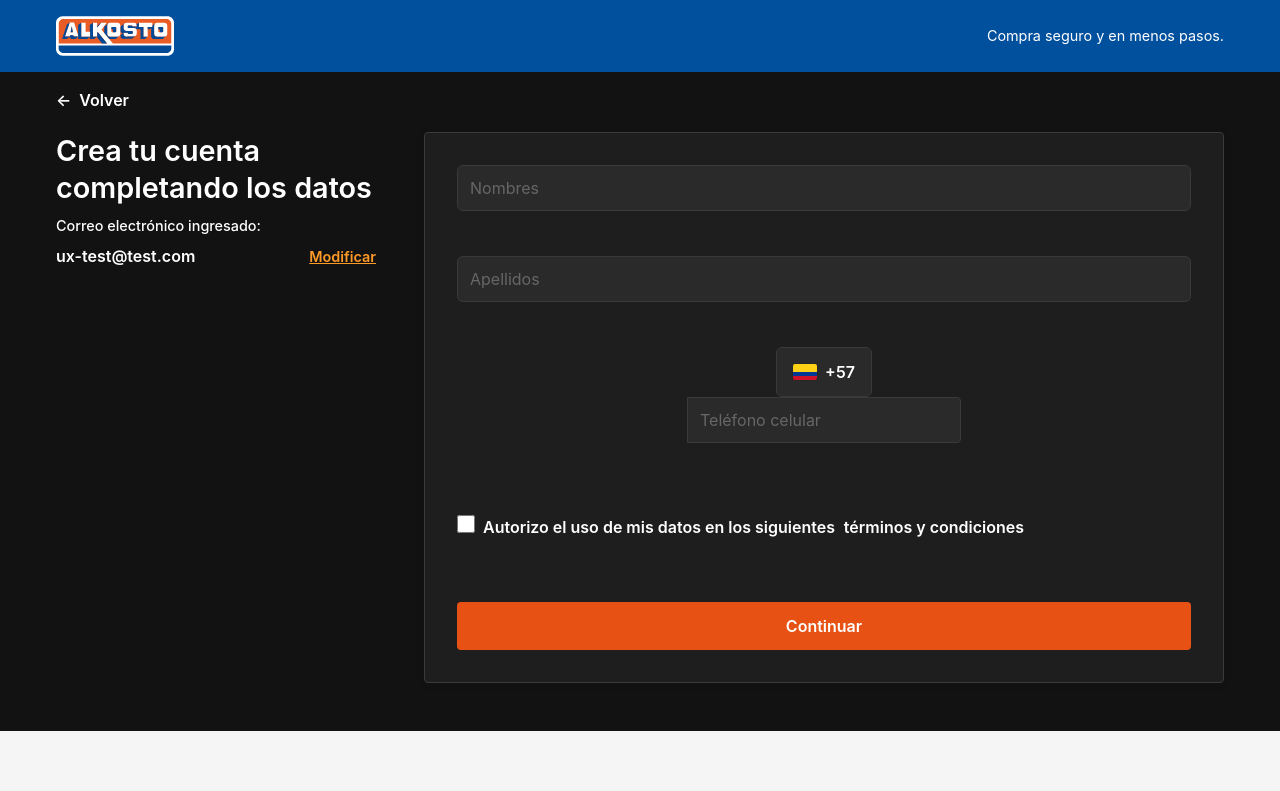
Test case: RF01 - REGISTRAR USUARIO - Pruebas E2E Completas › 6. Experiencia de Usuario e Interacciones › 6.1 Errores desaparecen al corregir campos
Generar error
Click the button with class "continue-button": (824,626) x1=457 y1=602 x2=1191 y2=650
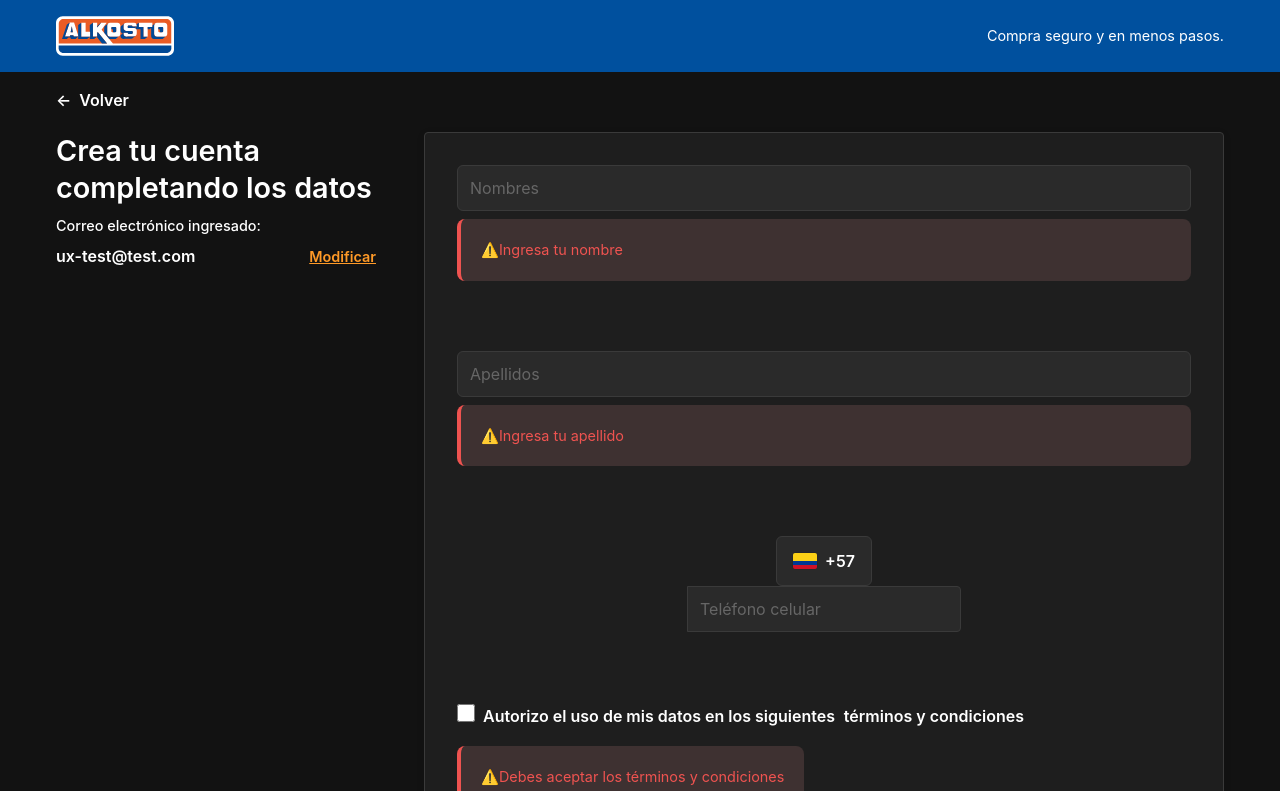
Check: the text "Ingresa tu nombre" is shown, box x1=457 y1=219 x2=1191 y2=281
In the field named "firstName": (824,188) x1=457 y1=165 x2=1191 y2=211, type "Nombre"
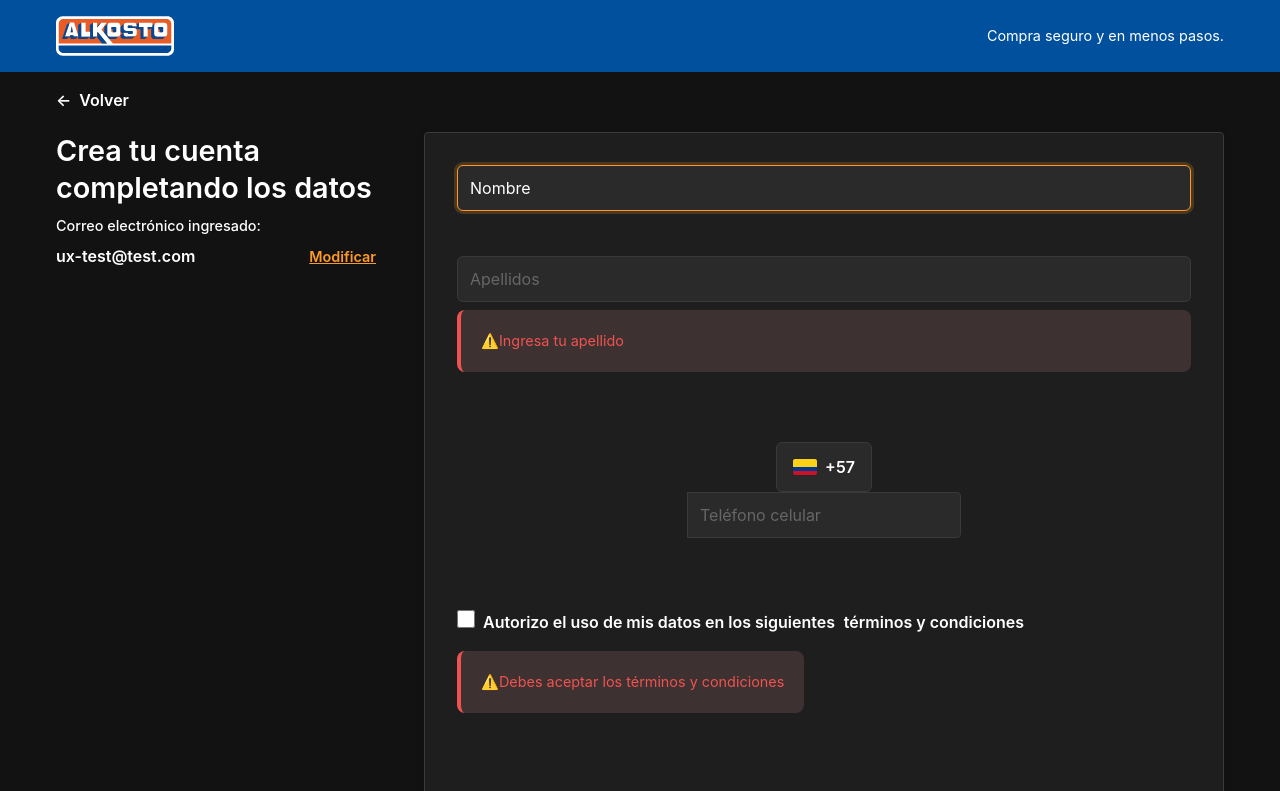
Check: the text "Ingresa tu nombre" is gone
